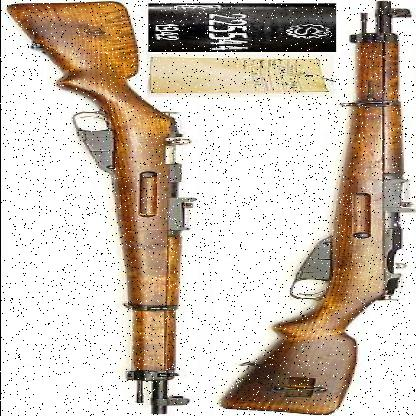rifle: (208, 0, 416, 414), (1, 0, 197, 415)
